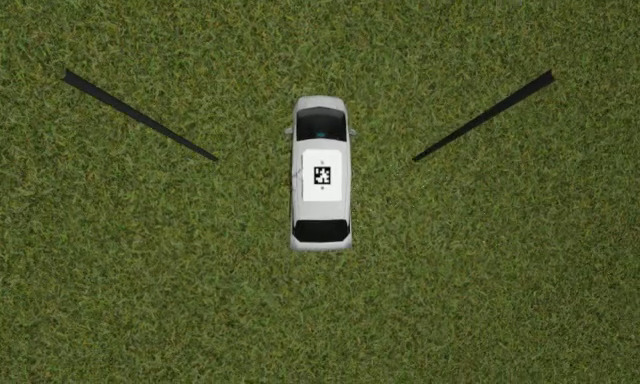Car: (292, 96, 352, 252)
Landing Pad: (303, 148, 343, 202)
